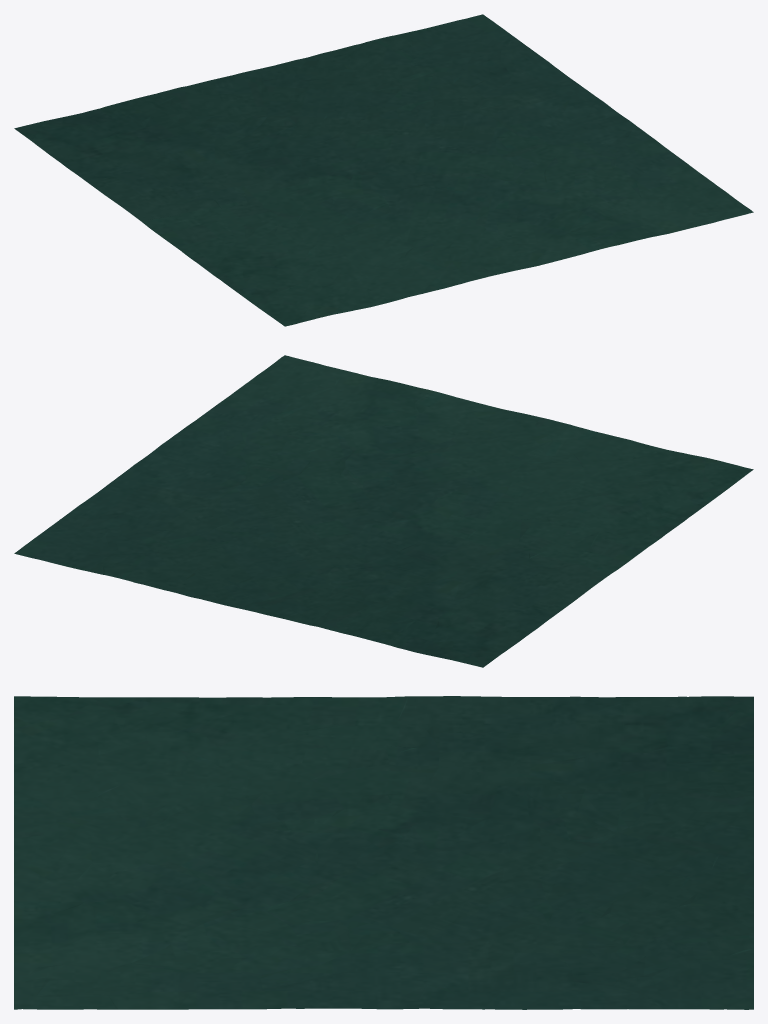
3 views of the same model, one above another, from view 1: azimuth 30°, elevation 25°; view 2: azimuth 150°, elevation 25°; view 3: azimuth 270°, elevation 25° (orthographic). The views are drawn at different scales.
Size of the model in its own units: 209 by 1.1 by 209.
2 materials, 2 textured.
